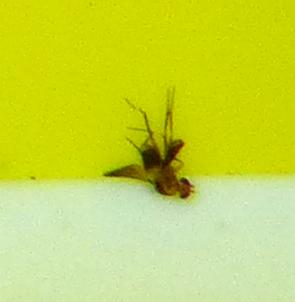Brachycera: (100, 100, 195, 202)
